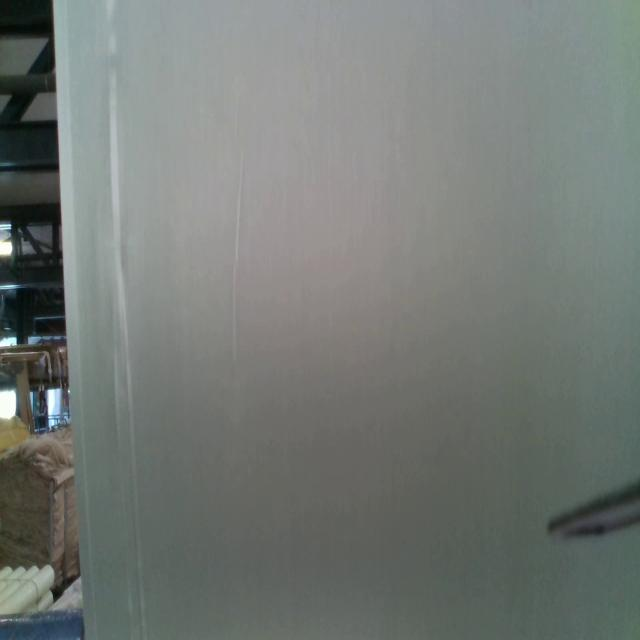crease: (105, 0, 146, 635), (230, 148, 245, 362)
